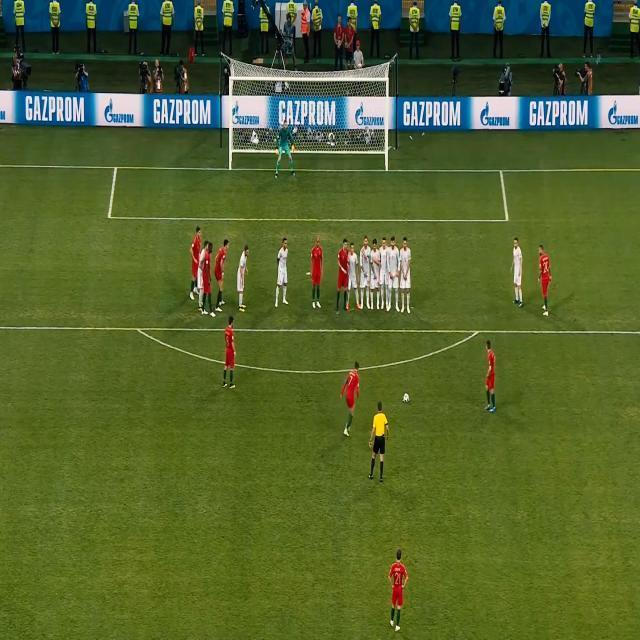ball: (402, 391, 411, 406)
goalkeeper: (272, 115, 299, 182)
player: (386, 546, 410, 634), (340, 359, 362, 440), (537, 239, 555, 319), (274, 236, 293, 310), (222, 315, 240, 392), (482, 337, 500, 414), (213, 237, 231, 313), (511, 234, 527, 309), (335, 237, 350, 313), (309, 236, 324, 310), (400, 234, 413, 318), (236, 243, 251, 313), (387, 234, 400, 312), (358, 239, 372, 309), (346, 241, 359, 313), (189, 225, 201, 299), (196, 241, 207, 316), (371, 239, 381, 312), (379, 237, 389, 310), (204, 240, 212, 317)
referee: (368, 398, 391, 484)
